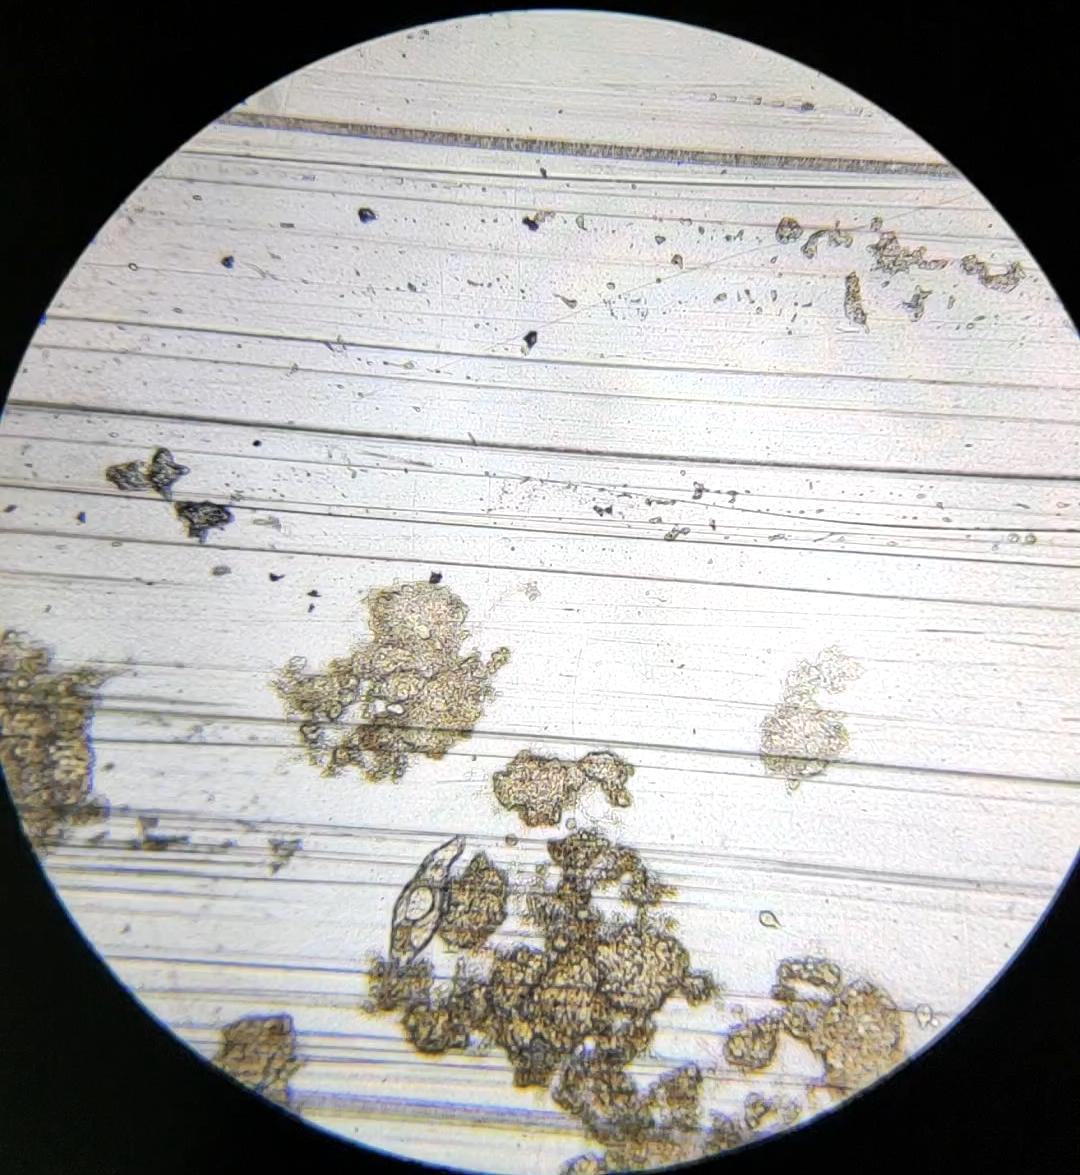Do: (388, 834, 466, 987)
